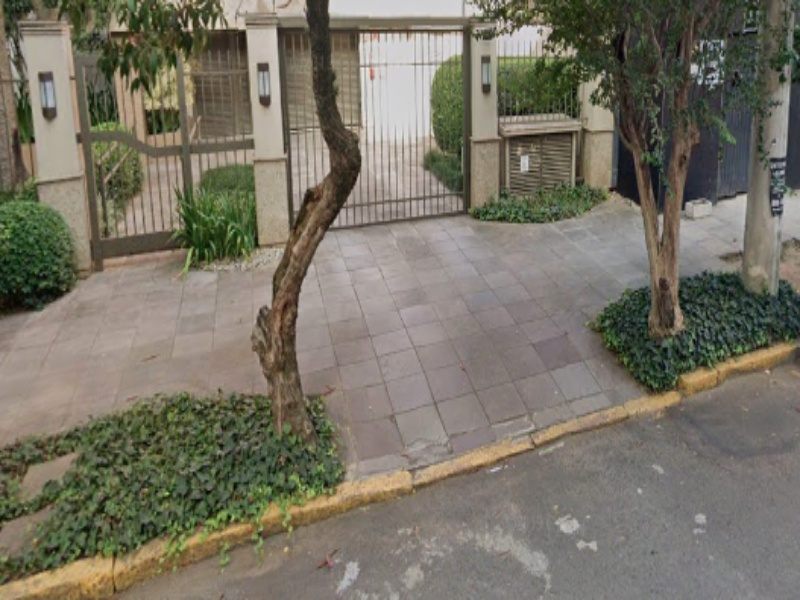g83: (343, 366, 655, 538)
